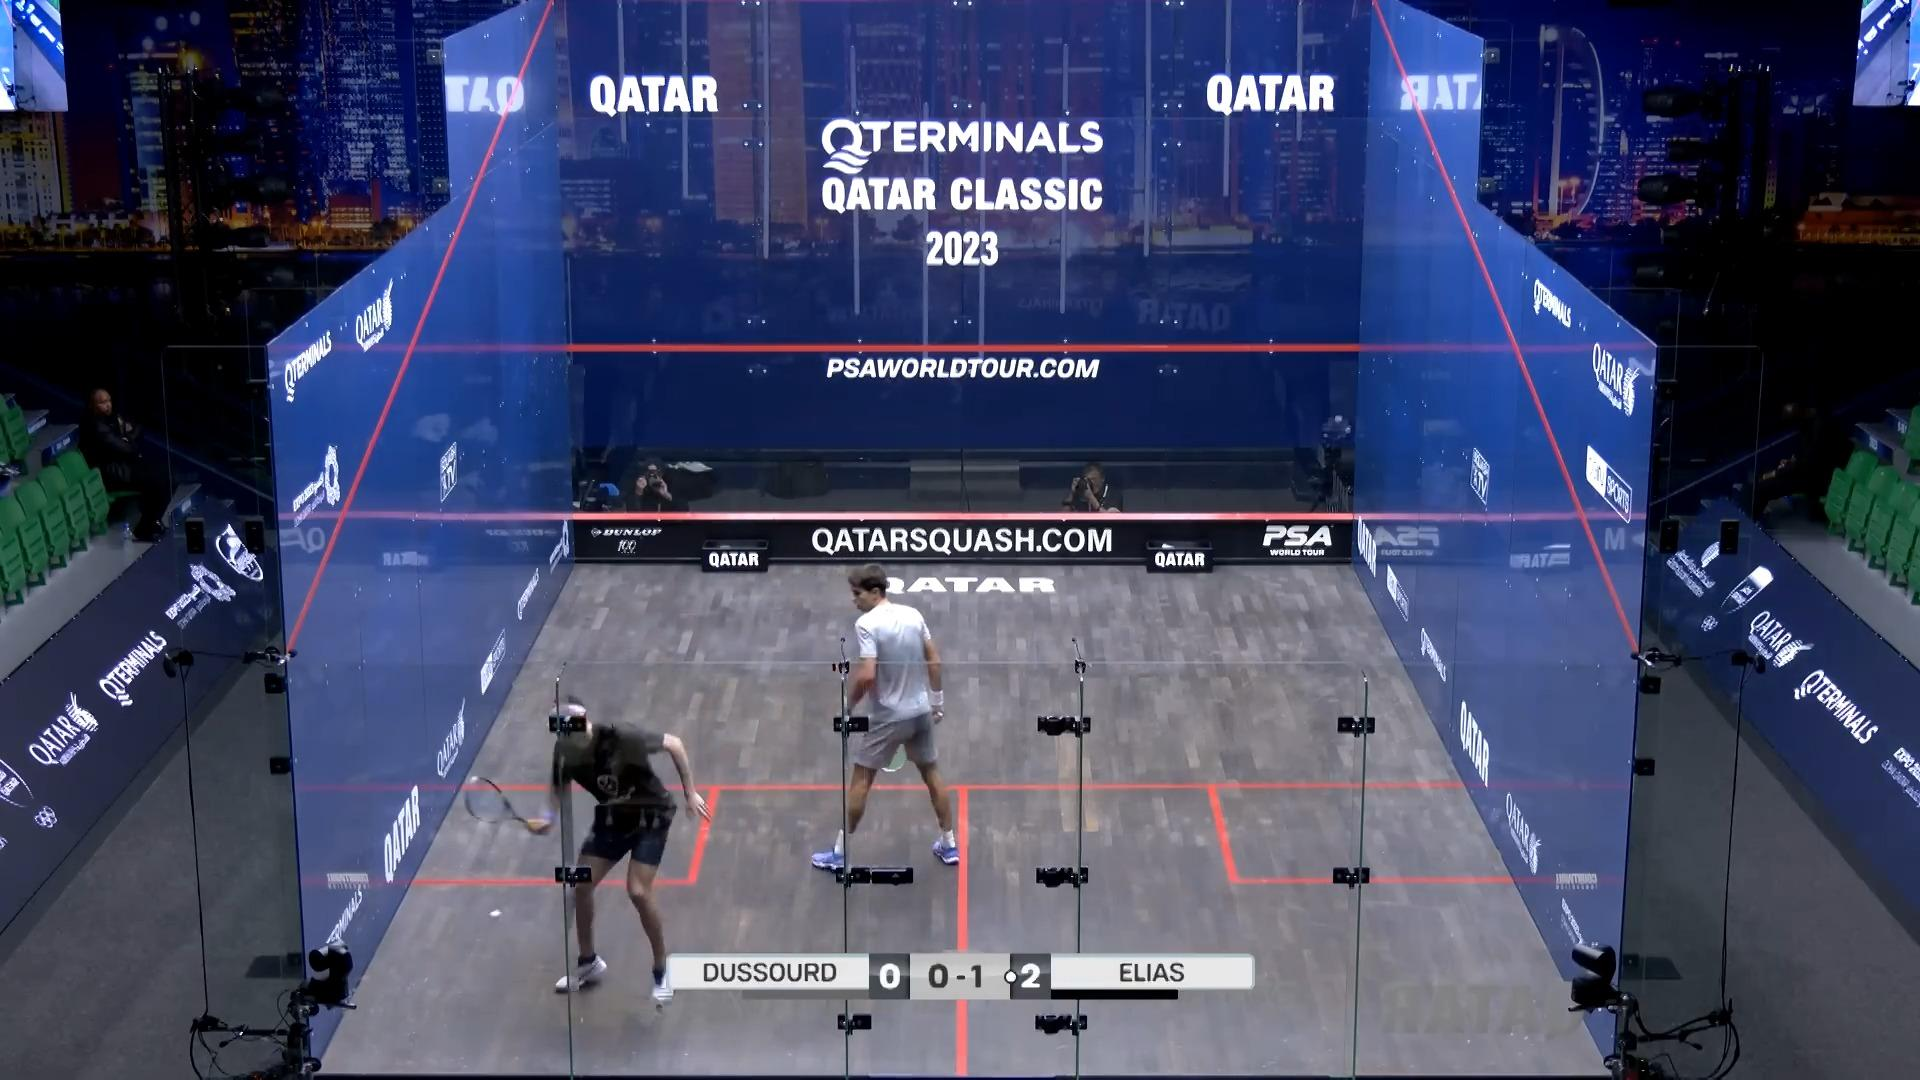Racket: (459, 770, 533, 840)
